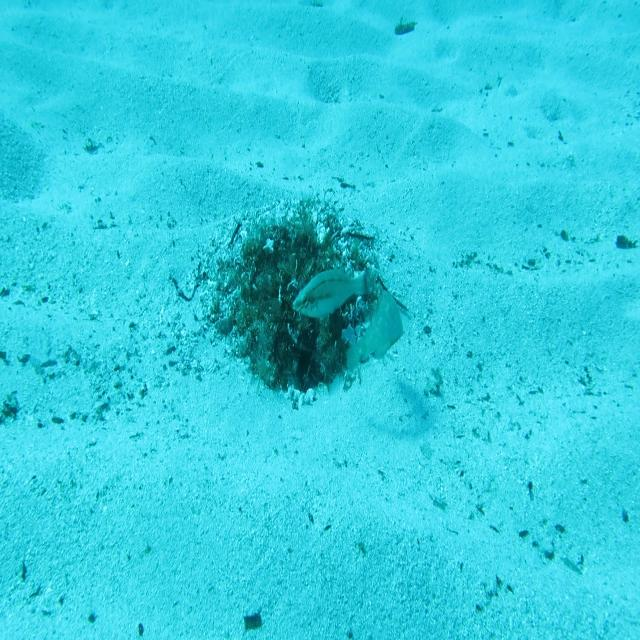DAN_CIRC: (343, 278, 408, 375)
core_nest: (270, 232, 316, 279)
female: (290, 262, 377, 322)
nest: (190, 166, 412, 420)
vegetation: (392, 17, 418, 37), (244, 608, 263, 632), (619, 235, 638, 254)
